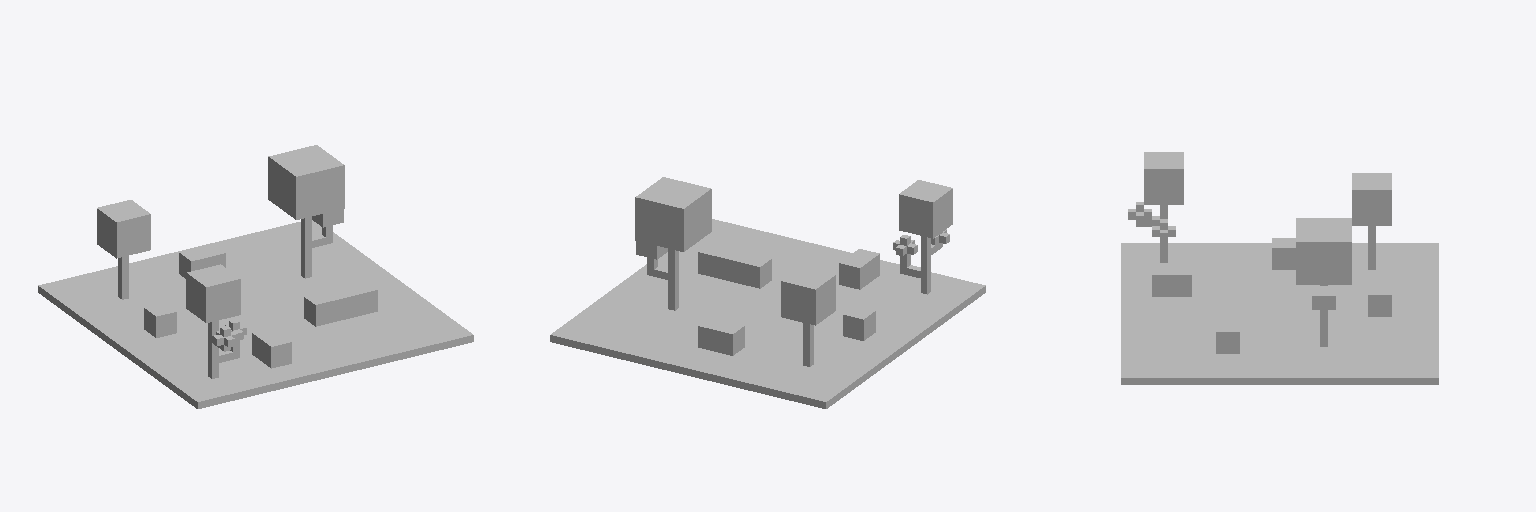
Rendered from Grass With Vegetation.obj.
3 views of the same model, side by side, from view 1: azimuth 30°, elevation 25°; view 2: azimuth 150°, elevation 25°; view 3: azimuth 270°, elevation 25° (orthographic).
Visible parts, largest first — view 1: Grass With Vegetation; view 2: Grass With Vegetation; view 3: Grass With Vegetation.
Part boxes in pixels (x1,y1,x2,y2): Grass With Vegetation: (38,145,473,408); Grass With Vegetation: (550,177,985,408); Grass With Vegetation: (1121,152,1438,384).
Bounding box in the file's own units: 40 × 17 × 40.